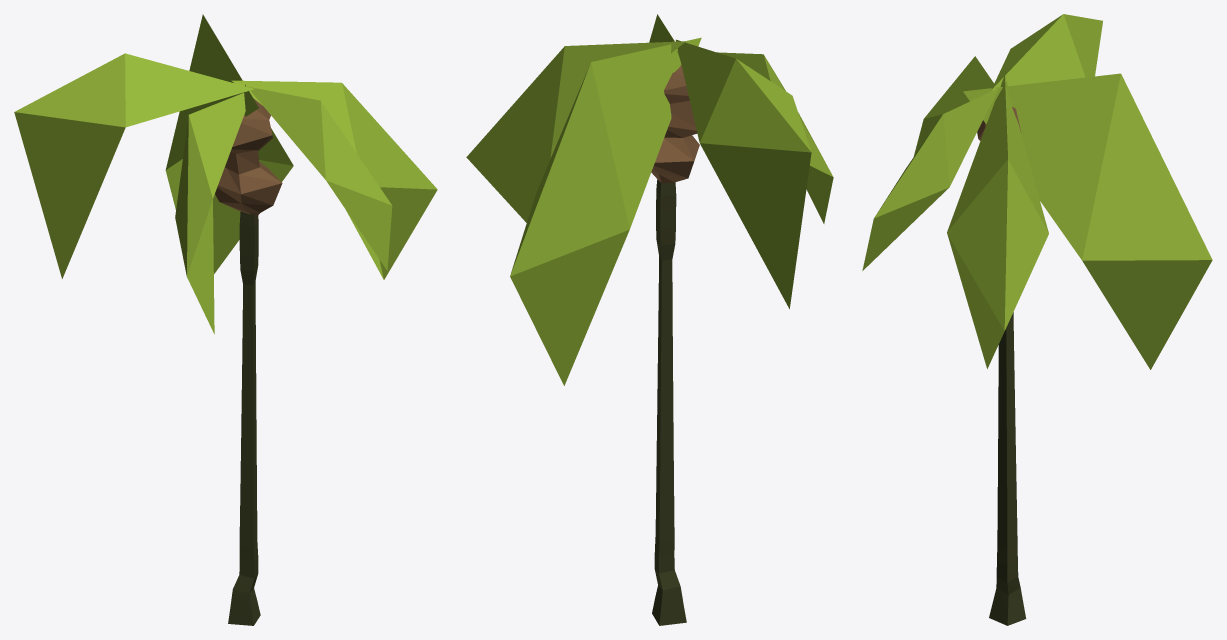
File: Árvore 3.glb
3 renders of one model, left to right at view 1: azimuth 30°, elevation 25°; view 2: azimuth 150°, elevation 25°; view 3: azimuth 270°, elevation 25°, orthographic. The views are drawn at different scales.
Parts seen in each view (by area): view 1: Copa 3; view 2: Copa 3; view 3: Copa 3.
Boxes of the visible parts, x1,y1,x2,y2 form: Copa 3: (14, 14, 437, 625); Copa 3: (466, 14, 833, 625); Copa 3: (862, 14, 1212, 625).
Bounding box in the file's own units: 0.299 × 0.4344 × 0.2458.
